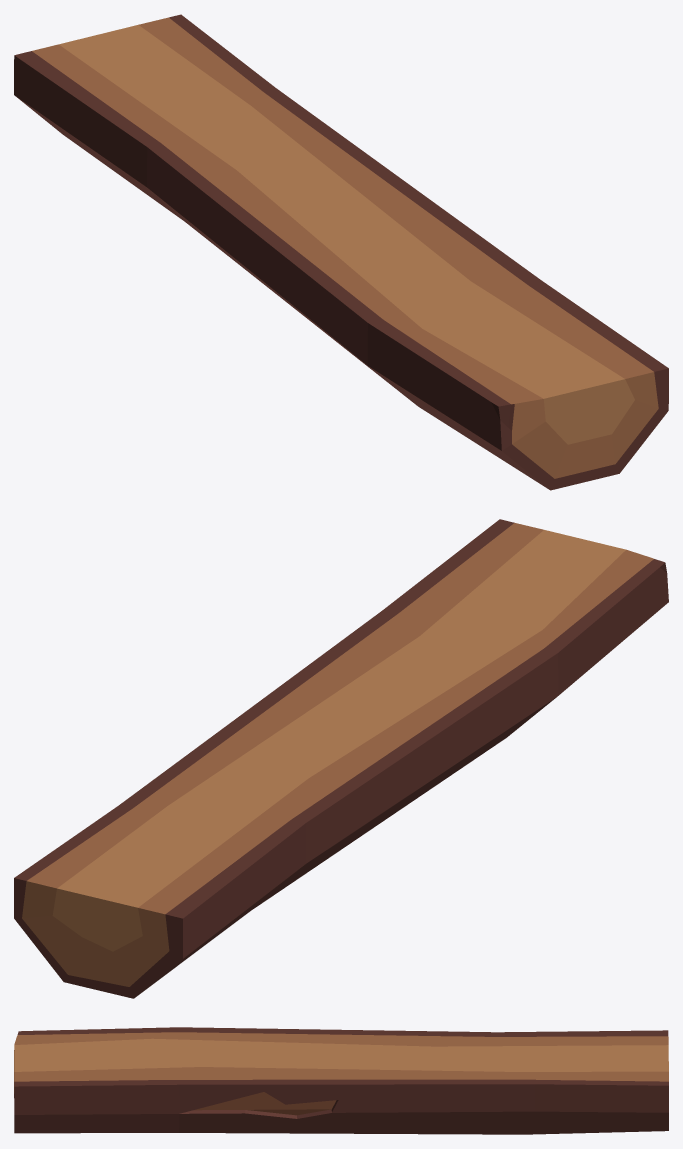
File: wood_half.fbx
3 renders of one model, top to bottom at view 1: azimuth 30°, elevation 25°; view 2: azimuth 150°, elevation 25°; view 3: azimuth 270°, elevation 25°, orthographic. The views are drawn at different scales.
Parts seen in each view (by area): view 1: Deck_half; view 2: Deck_half; view 3: Deck_half.
Boxes of the visible parts, x1=… form: Deck_half: x1=14, y1=14, x2=668, y2=490; Deck_half: x1=14, y1=519, x2=668, y2=998; Deck_half: x1=14, y1=1027, x2=668, y2=1134.
Size of the model in its own units: 25.33 by 13.19 by 119.
